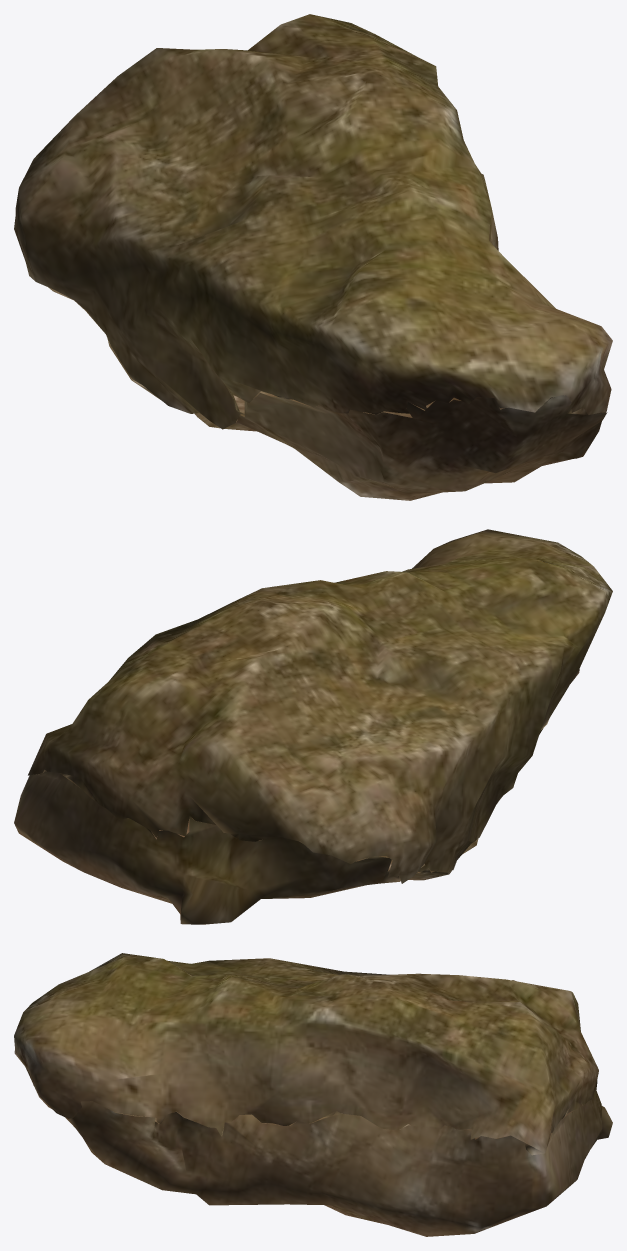
File: mossy_rock_5.glb
3 views of the same model, one above another, from view 1: azimuth 30°, elevation 25°; view 2: azimuth 150°, elevation 25°; view 3: azimuth 270°, elevation 25° (orthographic). The views are drawn at different scales.
Visible parts, largest first — view 1: mossy_rock_5; view 2: mossy_rock_5; view 3: mossy_rock_5.
Part boxes in pixels (<box>): mossy_rock_5: <box>14,14,612,500</box>; mossy_rock_5: <box>14,529,612,924</box>; mossy_rock_5: <box>14,953,612,1236</box>.
Size of the model in its own units: 1.81 by 1.22 by 2.99.
1 material, 1 textured.
